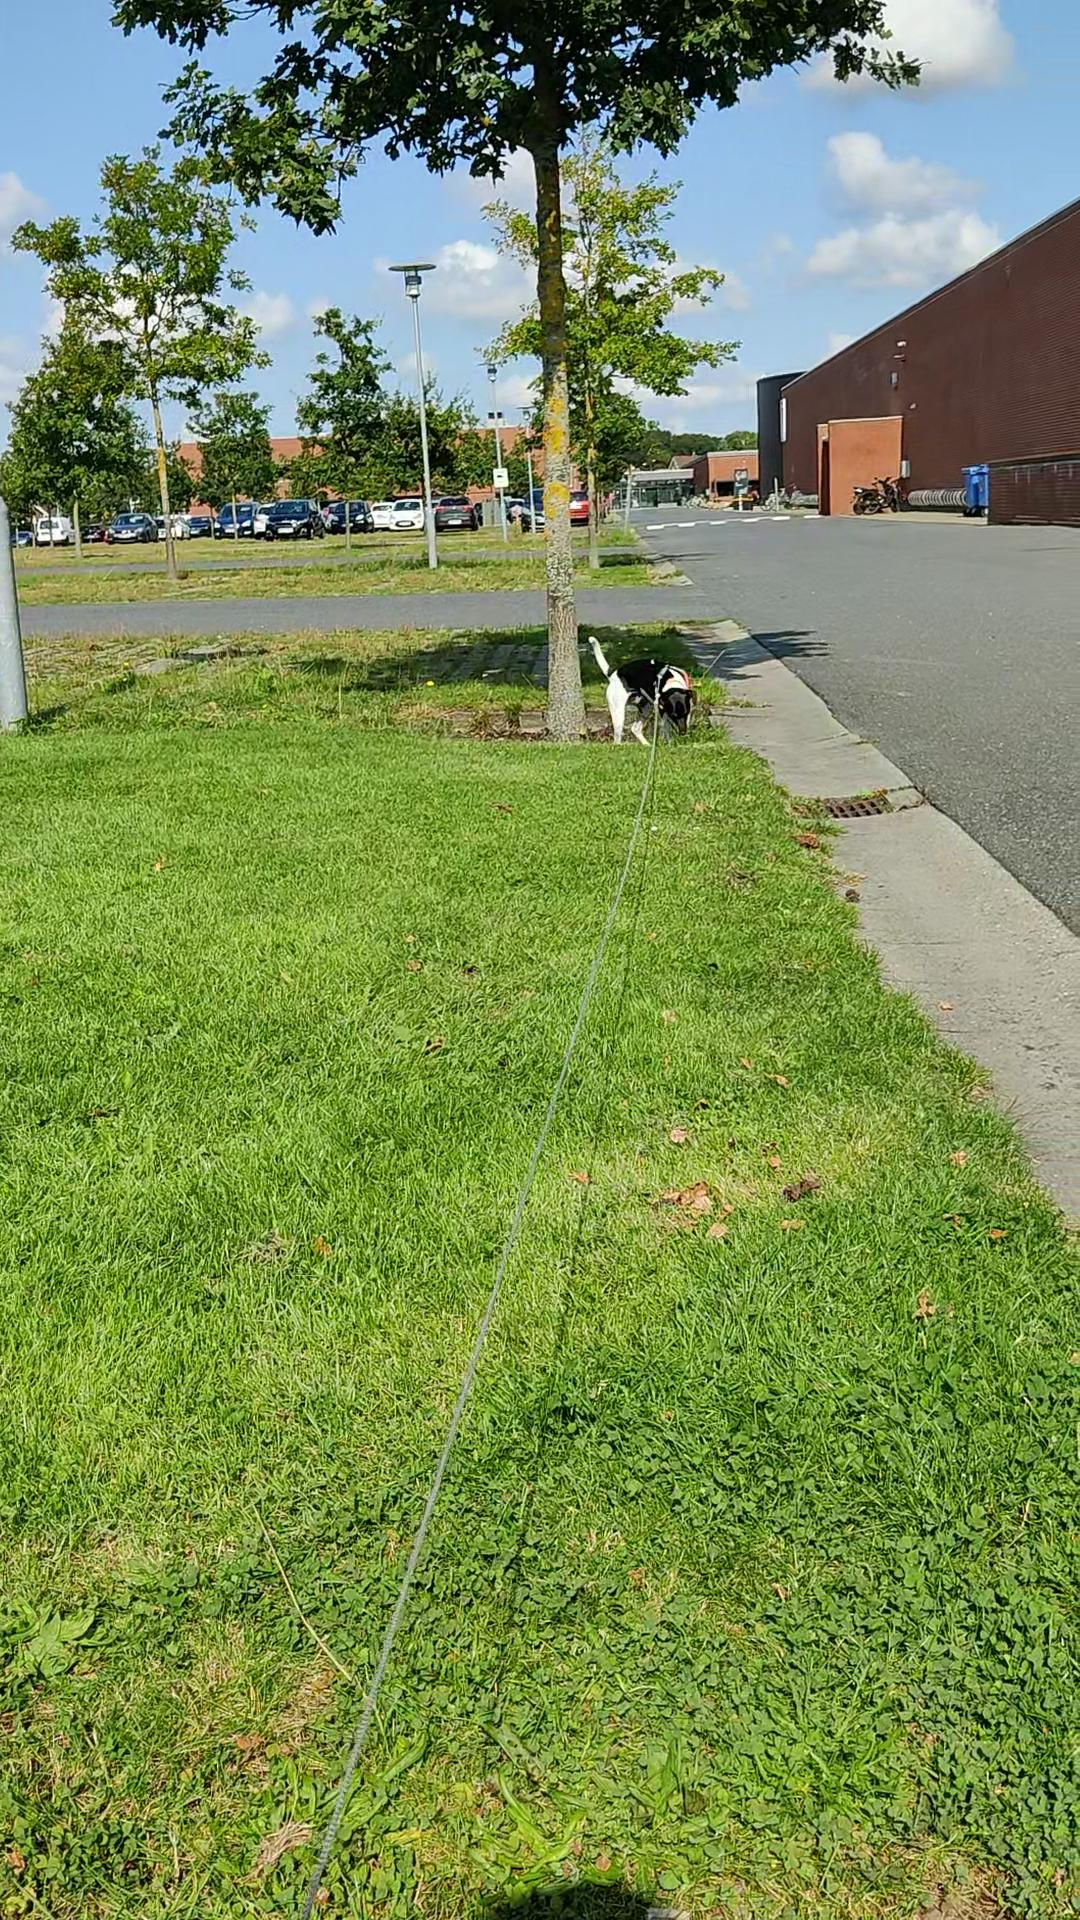Dog: (582, 629, 700, 746)
